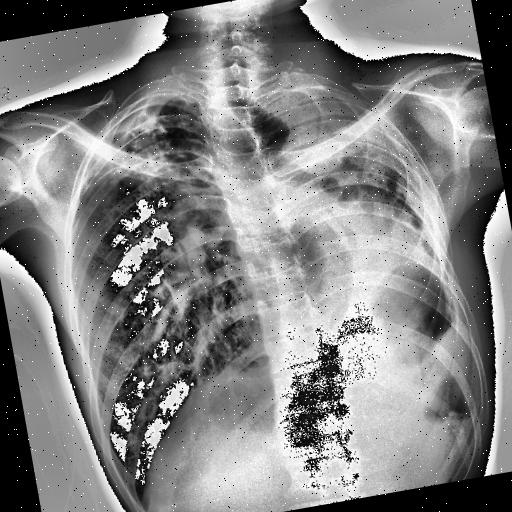1- Atelectasis: (251, 58, 473, 394), (252, 49, 444, 347), (70, 78, 220, 235)
10- Pleural effusion: (251, 58, 473, 394), (414, 302, 476, 372), (425, 301, 470, 360)
11- Pleural thickening: (250, 56, 411, 186), (98, 86, 184, 138), (101, 84, 182, 134), (425, 301, 470, 360)
13- Pulmonary fibrosis: (70, 78, 220, 235), (90, 120, 222, 244), (322, 140, 438, 262), (79, 110, 208, 219)
7- Lung Opacity: (252, 49, 444, 347), (322, 140, 438, 262), (368, 261, 456, 361)
